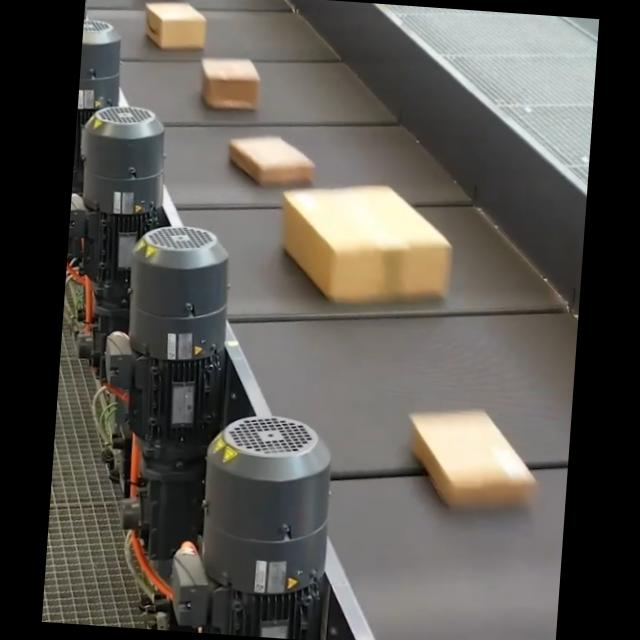box: (276, 177, 456, 309), (406, 410, 539, 512), (226, 132, 310, 186), (137, 0, 207, 51), (198, 55, 259, 111)
